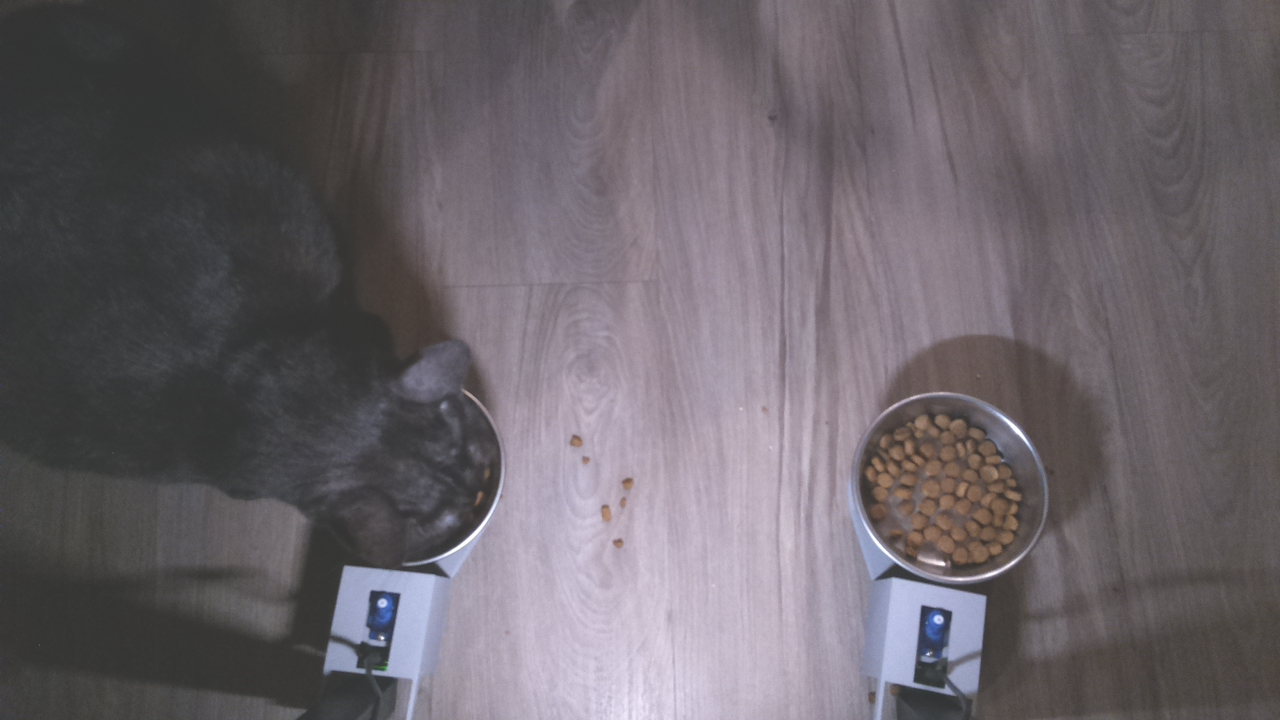open_bowl: (850, 390, 1051, 589)
saki_eating: (284, 304, 508, 579)
